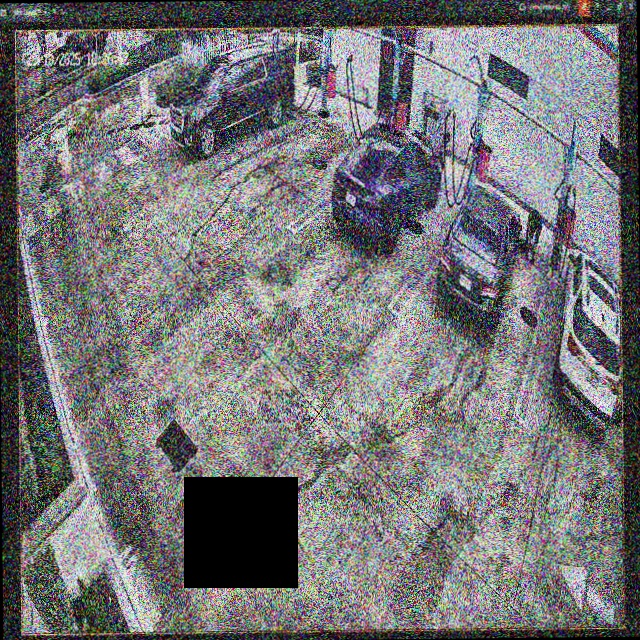Car: (332, 121, 443, 253), (169, 46, 295, 155), (438, 185, 521, 331)
